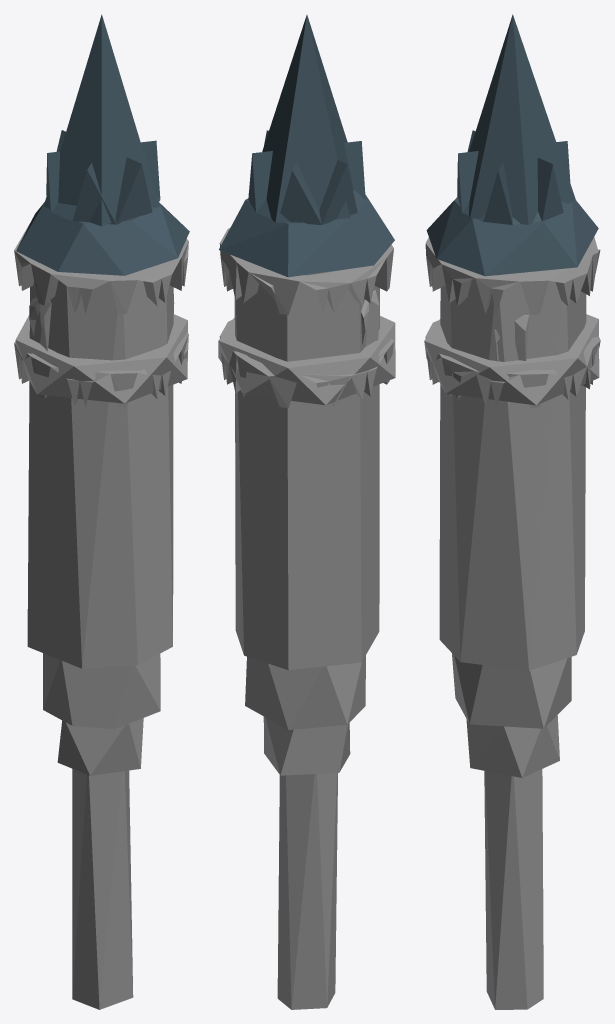
The model's file is LOD2_TallTower.fbx.
3 renders of one model, left to right at view 1: azimuth 30°, elevation 25°; view 2: azimuth 150°, elevation 25°; view 3: azimuth 270°, elevation 25°, orthographic.
Visible parts, largest first — view 1: group989038873; view 2: group989038873; view 3: group989038873.
Boxes of the visible parts, bbox=[...] form: group989038873: bbox=[14, 14, 189, 1009]; group989038873: bbox=[218, 15, 395, 1009]; group989038873: bbox=[424, 14, 600, 1009].
Size of the model in its own units: 12.06 by 74 by 12.02.
